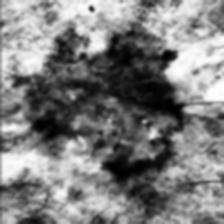Potentially Malignant Skin Tumors: (114, 52, 164, 126), (102, 134, 144, 170), (59, 110, 109, 138)
